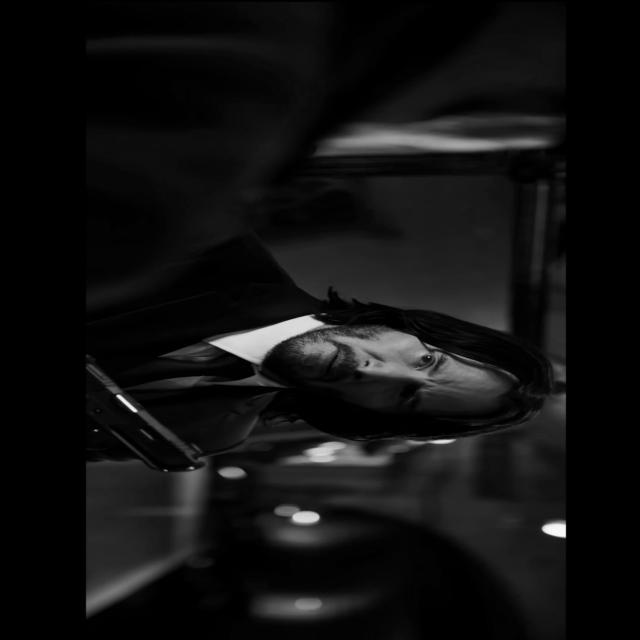weapons: (86, 348, 220, 478)
